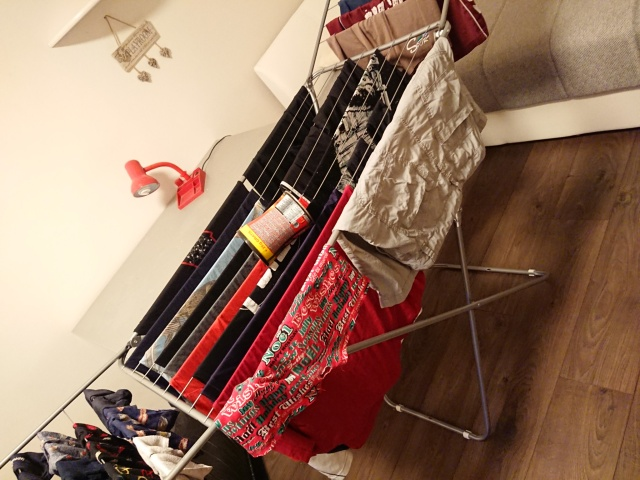Nescafe Classic 225g: (233, 187, 318, 269)
